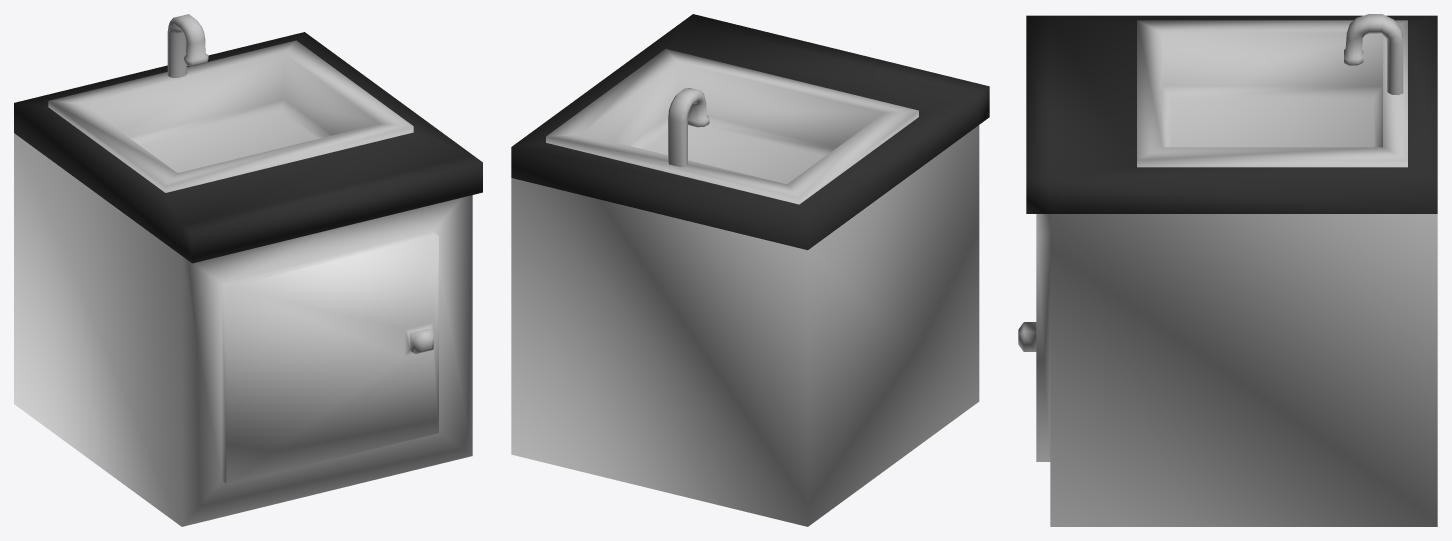
Rendered from GAMEJAMHERO - Prop(Kitchen Sink).fbx.
The picture shows the model from 3 angles, left to right: view 1: azimuth 30°, elevation 25°; view 2: azimuth 150°, elevation 25°; view 3: azimuth 270°, elevation 25°; orthographic projection. The views are drawn at different scales.
Parts seen in each view (by area): view 1: Cube.017; view 2: Cube.017; view 3: Cube.017.
Boxes of the visible parts, bbox=[...] form: Cube.017: bbox=[14, 14, 482, 526]; Cube.017: bbox=[511, 14, 989, 526]; Cube.017: bbox=[1018, 14, 1437, 526].
Size of the model in its own units: 146 by 178 by 158.
1 material, 1 textured.
